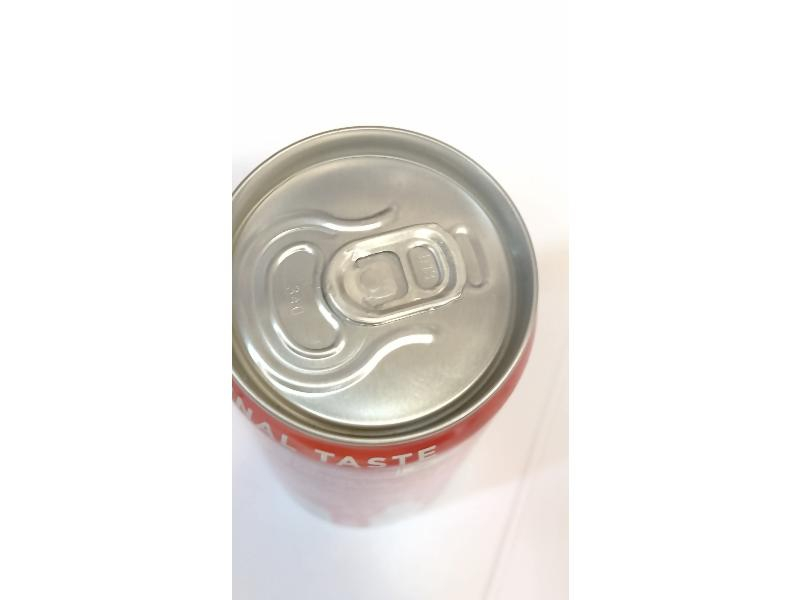can: (234, 129, 542, 534)
